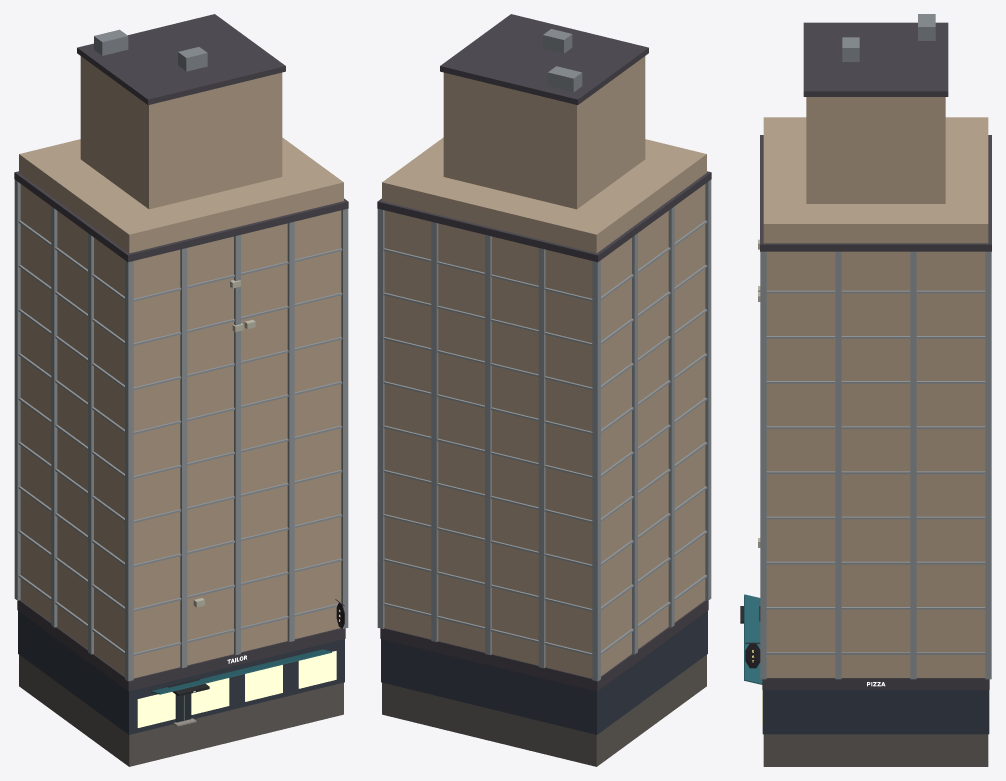
Rendered from building_3.glb.
The picture shows the model from 3 angles, left to right: view 1: azimuth 30°, elevation 25°; view 2: azimuth 150°, elevation 25°; view 3: azimuth 270°, elevation 25°; orthographic projection.
Parts seen in each view (by area): view 1: building; view 2: building; view 3: building.
Boxes of the visible parts, x1,y1,x2,y2 form: building: [14, 14, 348, 766]; building: [377, 14, 711, 766]; building: [740, 14, 991, 766].
Bounding box in the file's own units: 18.5 × 52.68 × 17.93.
